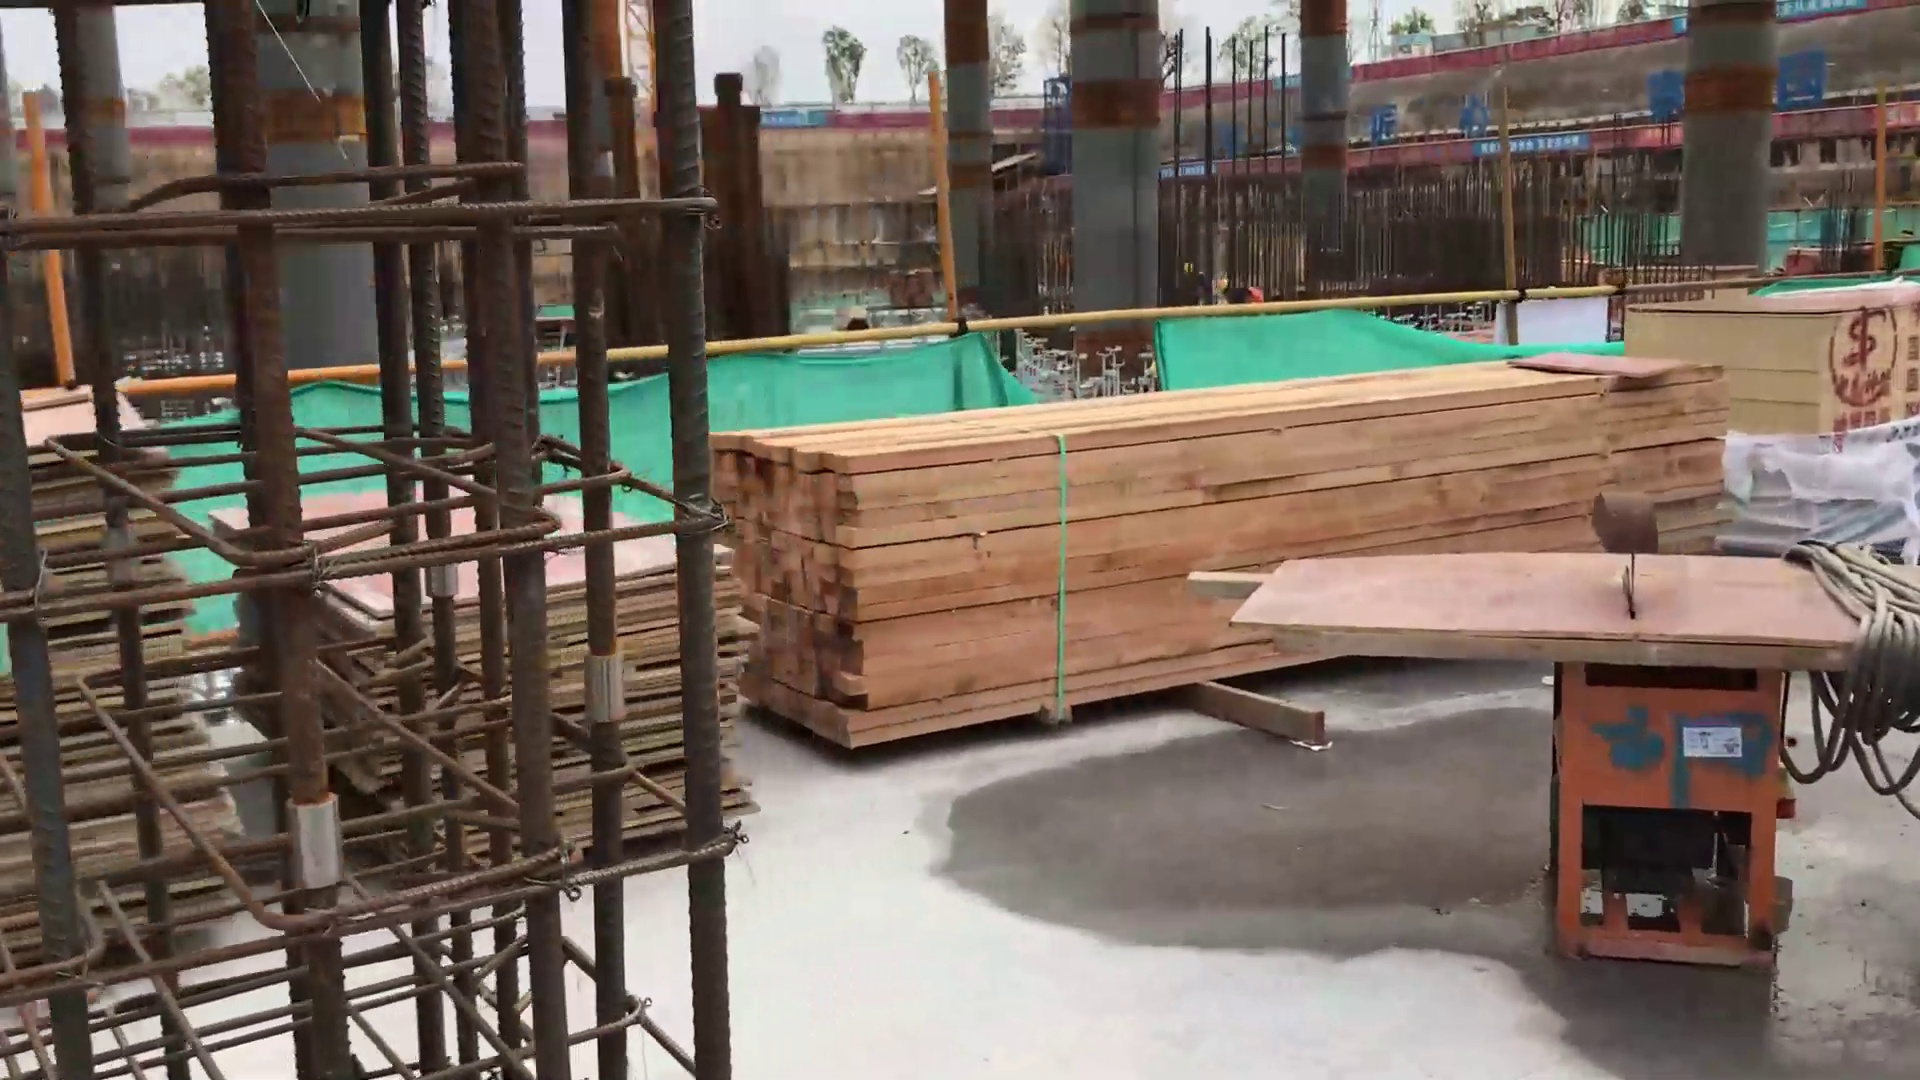board: (213, 459, 768, 884), (1, 386, 233, 1016)
cutter: (1051, 519, 1861, 1027)
helmet: (1178, 263, 1194, 277), (1219, 275, 1229, 291)
person: (1218, 275, 1265, 305), (1186, 264, 1215, 296)
vest: (1234, 281, 1260, 302), (1199, 269, 1210, 291)
wood: (713, 371, 1693, 762)
